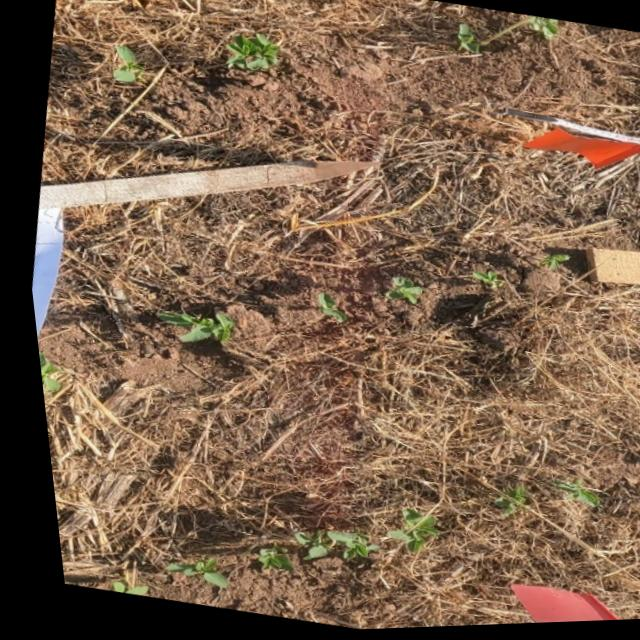soy_plant: (149, 311, 227, 343), (282, 532, 365, 561), (375, 510, 427, 554), (224, 36, 279, 74), (155, 557, 214, 588), (544, 485, 587, 511), (379, 278, 416, 308), (112, 46, 142, 82), (31, 351, 55, 392), (483, 490, 517, 517), (245, 546, 279, 571), (312, 295, 339, 324), (457, 28, 479, 58), (530, 19, 558, 41), (466, 274, 498, 293), (534, 254, 563, 274), (99, 581, 134, 596)
